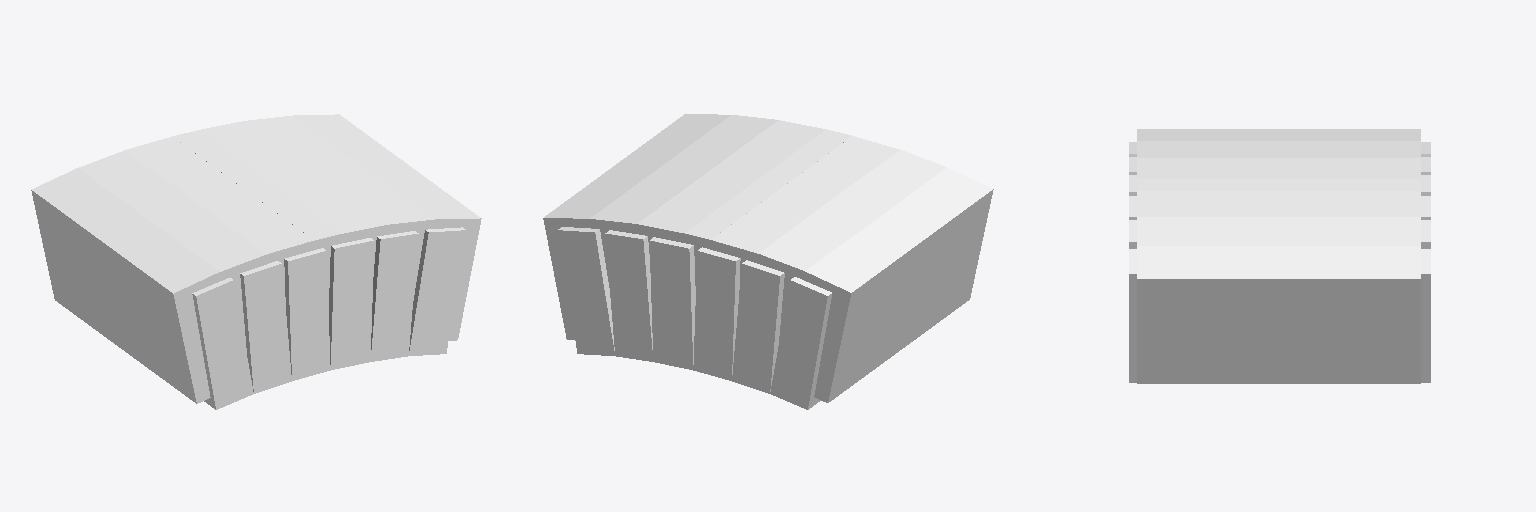
File: lime_mortar_orange_clay_brick_segmental_arch_3_middle.obj
The picture shows the model from 3 angles: view 1: azimuth 30°, elevation 25°; view 2: azimuth 150°, elevation 25°; view 3: azimuth 270°, elevation 25°; orthographic projection.
Visible parts, largest first — view 1: cube.134, cube.133, cube.132, cube.135, cube.137, cube.136, brick.026, brick.021, brick.024, brick.023, brick.022, brick.025 (+1 smaller); view 2: cube.134, cube.133, cube.132, cube.135, cube.137, cube.136, brick.026, brick.021, brick.024, brick.022, brick.023, brick.025 (+1 smaller); view 3: cube.137, cube.136, cube.135, cube.132, cube.133, cube.131, cube.134, brick.024.
Part boxes in pixels (left/top/right/bottom): cube.134: left=31, top=168, right=220, bottom=403; cube.133: left=78, top=150, right=267, bottom=351; cube.132: left=125, top=137, right=313, bottom=303; cube.135: left=199, top=121, right=387, bottom=276; cube.137: left=293, top=114, right=481, bottom=340; cube.136: left=247, top=116, right=434, bottom=300; brick.026: left=195, top=153, right=374, bottom=369; brick.021: left=192, top=278, right=253, bottom=409; brick.024: left=409, top=227, right=465, bottom=355; brick.023: left=284, top=248, right=330, bottom=380; brick.022: left=240, top=261, right=291, bottom=393; brick.025: left=371, top=231, right=418, bottom=361; cube.134: left=803, top=168, right=993, bottom=402; cube.133: left=758, top=150, right=946, bottom=340; cube.132: left=710, top=136, right=899, bottom=292; cube.135: left=637, top=120, right=825, bottom=253; cube.137: left=543, top=114, right=730, bottom=339; cube.136: left=590, top=115, right=777, bottom=287; brick.026: left=649, top=153, right=828, bottom=369; brick.021: left=770, top=277, right=831, bottom=409; brick.024: left=558, top=227, right=614, bottom=355; brick.022: left=732, top=260, right=784, bottom=393; brick.023: left=693, top=247, right=740, bottom=380; brick.025: left=605, top=230, right=652, bottom=361; cube.137: left=1137, top=246, right=1420, bottom=383; cube.136: left=1137, top=217, right=1420, bottom=245; cube.135: left=1137, top=191, right=1420, bottom=216; cube.132: left=1137, top=158, right=1420, bottom=178; cube.133: left=1137, top=141, right=1420, bottom=157; cube.131: left=1137, top=179, right=1420, bottom=190; cube.134: left=1137, top=129, right=1420, bottom=140; brick.024: left=1129, top=249, right=1430, bottom=382.
Bounding box in the file's own units: 1.26 × 0.554 × 1.06.